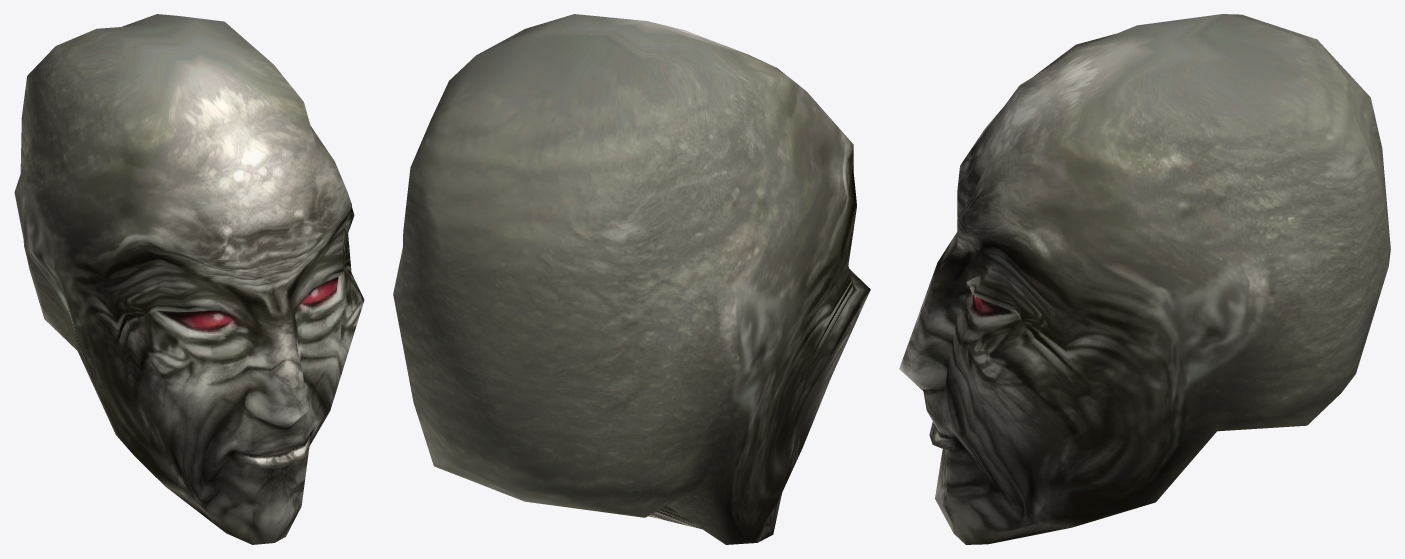
File: b_n_dark elf_m_head_05.glb
3 renders of one model, left to right at view 1: azimuth 30°, elevation 25°; view 2: azimuth 150°, elevation 25°; view 3: azimuth 270°, elevation 25°, orthographic. The views are drawn at different scales.
Visible parts, largest first — view 1: Tri B_N_Dark Elf_M_Head_05; view 2: Tri B_N_Dark Elf_M_Head_05; view 3: Tri B_N_Dark Elf_M_Head_05.
Boxes of the visible parts, <box> form: Tri B_N_Dark Elf_M_Head_05: <box>14,14,364,544</box>; Tri B_N_Dark Elf_M_Head_05: <box>393,14,870,544</box>; Tri B_N_Dark Elf_M_Head_05: <box>899,14,1390,544</box>.
Size of the model in its own units: 0.093 by 0.1576 by 0.1398.
Materials: 1 (1 with a texture image).
